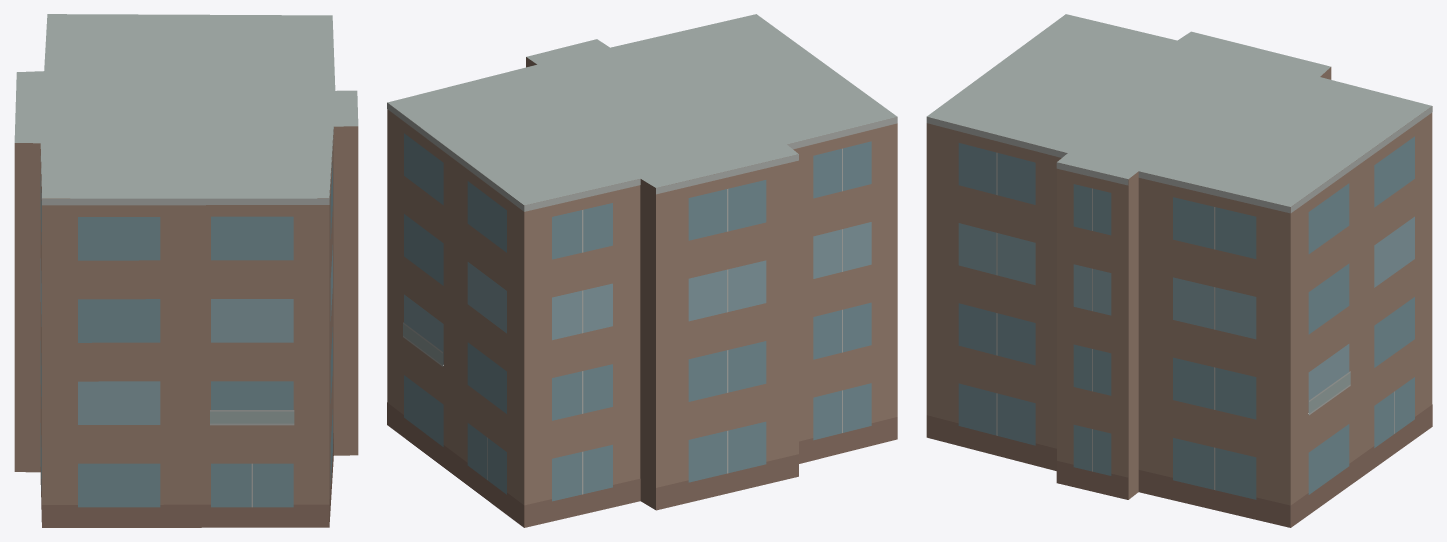
File: survey-upis-32722122.glb
3 renders of one model, left to right at view 1: azimuth 30°, elevation 25°; view 2: azimuth 150°, elevation 25°; view 3: azimuth 270°, elevation 25°, orthographic. The views are drawn at different scales.
Parts seen in each view (by area): view 1: survey-upis-32722122.tmp; view 2: survey-upis-32722122.tmp; view 3: survey-upis-32722122.tmp.
Part boxes in pixels (left/top/right/bottom): survey-upis-32722122.tmp: left=14, top=14, right=358, bottom=527; survey-upis-32722122.tmp: left=387, top=14, right=897, bottom=527; survey-upis-32722122.tmp: left=926, top=14, right=1432, bottom=527.
Size of the model in its own units: 15.75 by 12.2 by 17.44.
